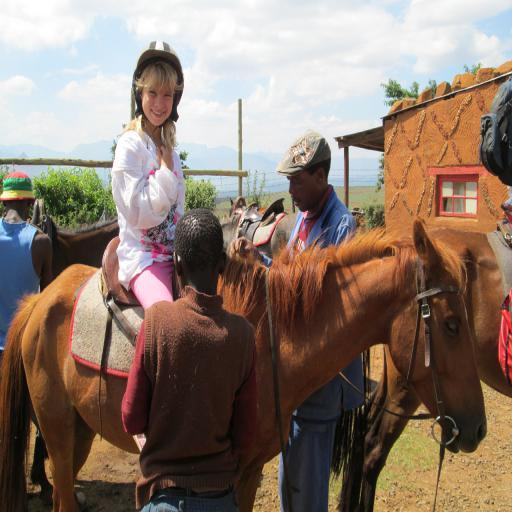horse: (0, 196, 512, 512), (335, 223, 512, 512), (28, 213, 120, 506), (220, 214, 300, 263)
